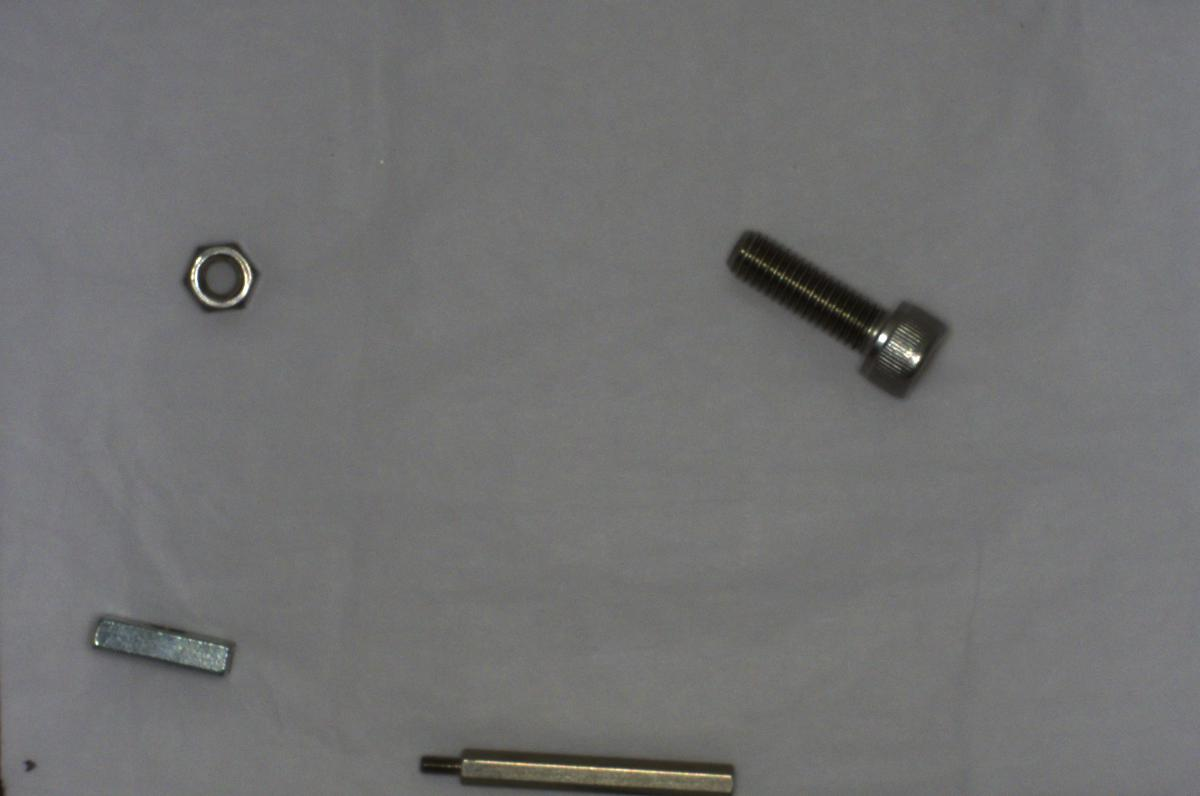Hexagon nut: (180, 230, 257, 314)
Hexagon screw: (713, 222, 958, 408)
Hexagonal steel column: (399, 730, 748, 795)
Rectangular nut: (84, 607, 241, 681)
